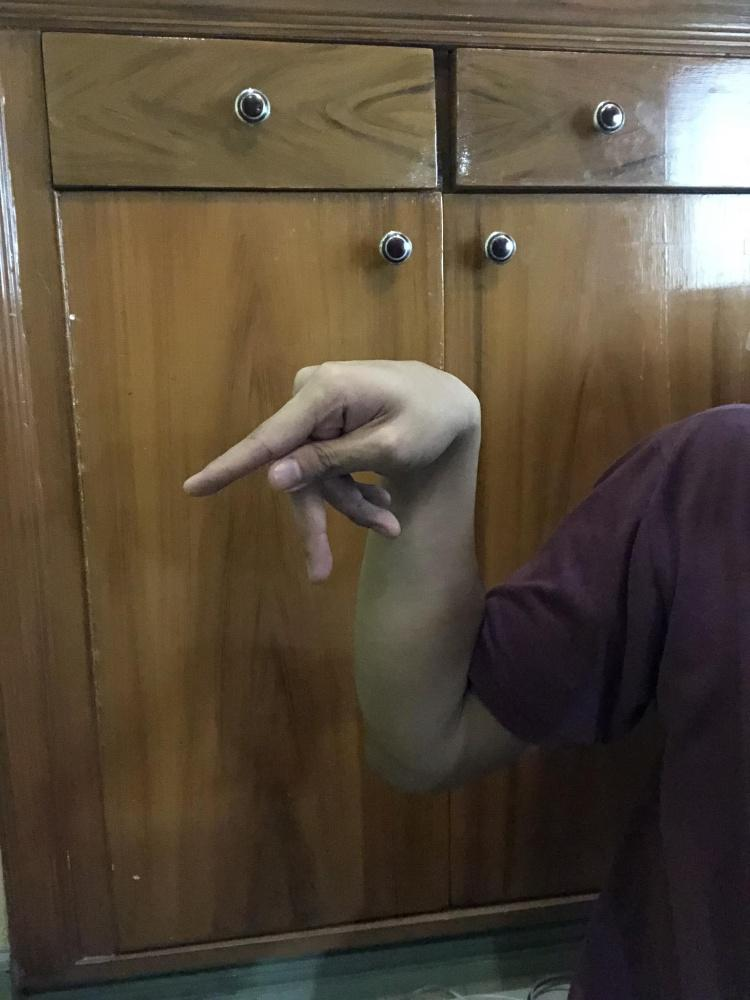p: (175, 351, 487, 586)
